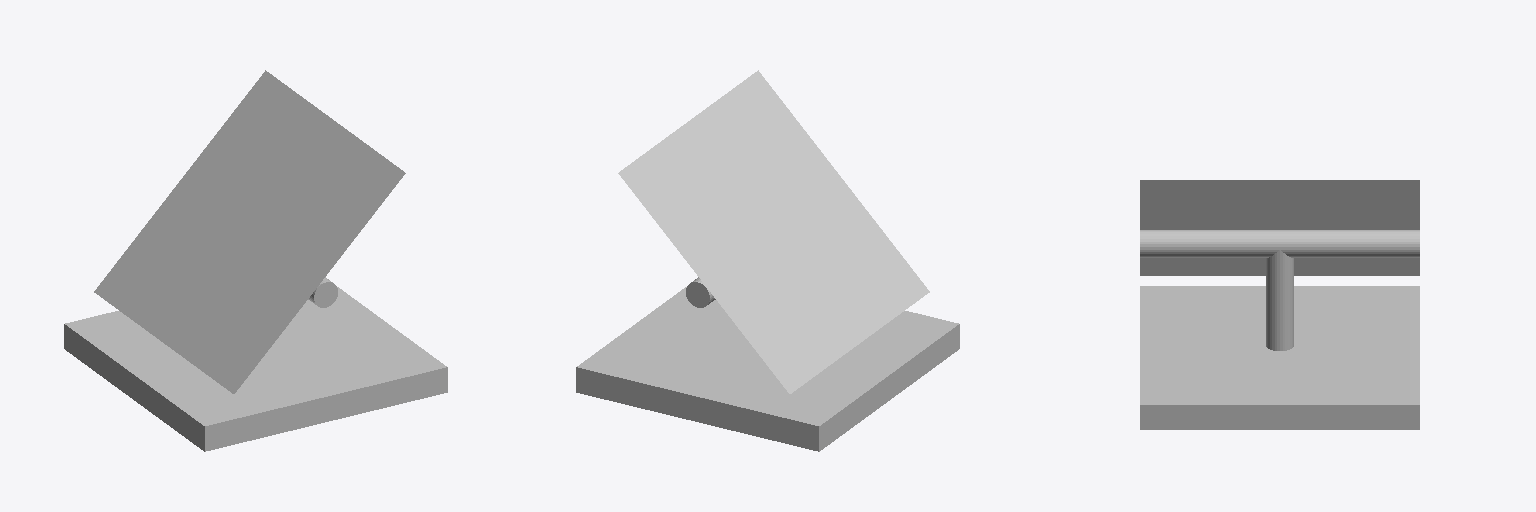
Rendered from solar_135.obj.
3 renders of one model, left to right at view 1: azimuth 30°, elevation 25°; view 2: azimuth 150°, elevation 25°; view 3: azimuth 270°, elevation 25°, orthographic.
Parts seen in each view (by area): view 1: Plane, Cube_Cube.001, Cylinder.001; view 2: Plane, Cube_Cube.001, Cylinder.001; view 3: Cube_Cube.001, Plane, Cylinder.001, Cylinder.
Boxes of the visible parts, <box> form: Plane: <box>94,70,405,393</box>; Cube_Cube.001: <box>64,287,447,451</box>; Cylinder.001: <box>308,277,337,307</box>; Plane: <box>618,70,929,393</box>; Cube_Cube.001: <box>576,287,959,451</box>; Cylinder.001: <box>686,277,715,307</box>; Cube_Cube.001: <box>1140,286,1419,429</box>; Plane: <box>1140,180,1419,275</box>; Cylinder.001: <box>1140,230,1419,257</box>; Cylinder: <box>1266,250,1293,350</box>.
Size of the model in its own units: 2 by 1.81 by 2.